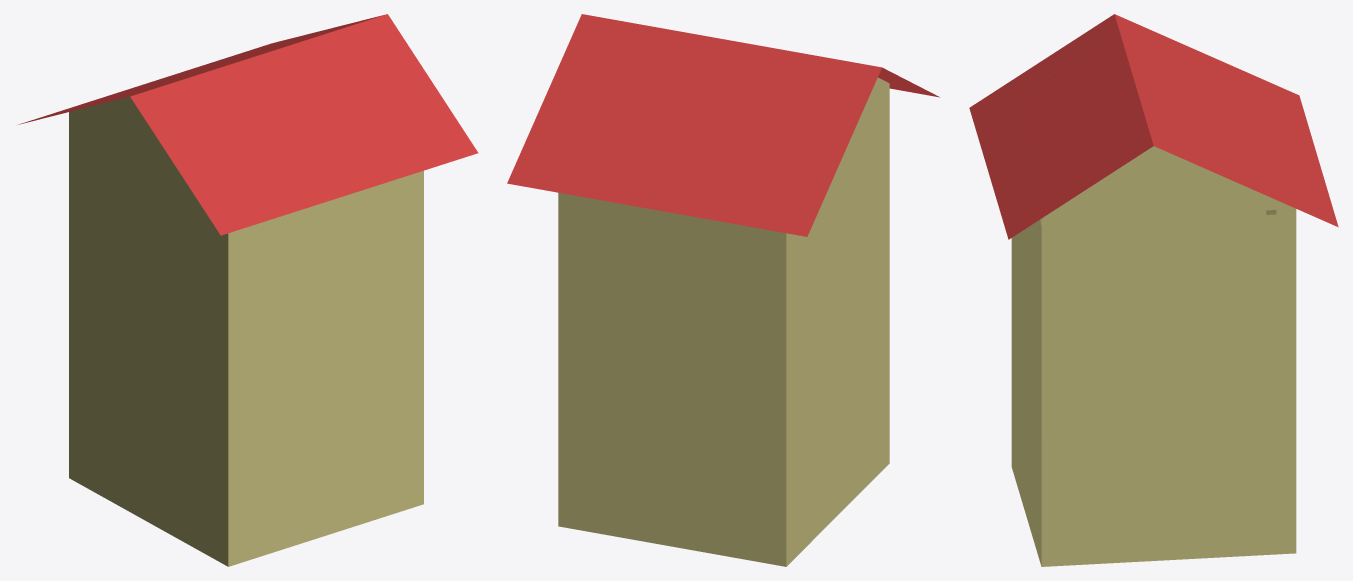
3 views of the same model, side by side, from view 1: azimuth 30°, elevation 25°; view 2: azimuth 150°, elevation 25°; view 3: azimuth 270°, elevation 25° (orthographic). The views are drawn at different scales.
Size of the model in its own units: 7 by 7.3 by 9.41.
